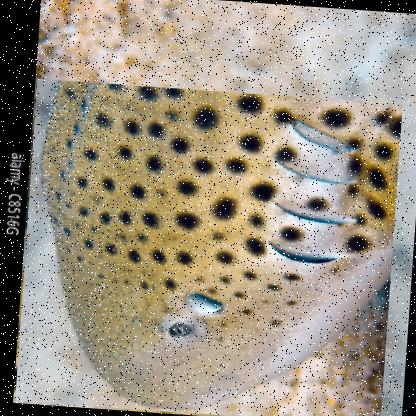zebra_shark: (13, 78, 403, 415)
